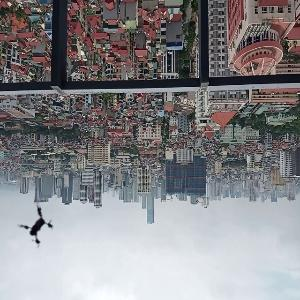drone: (7, 199, 62, 254)
